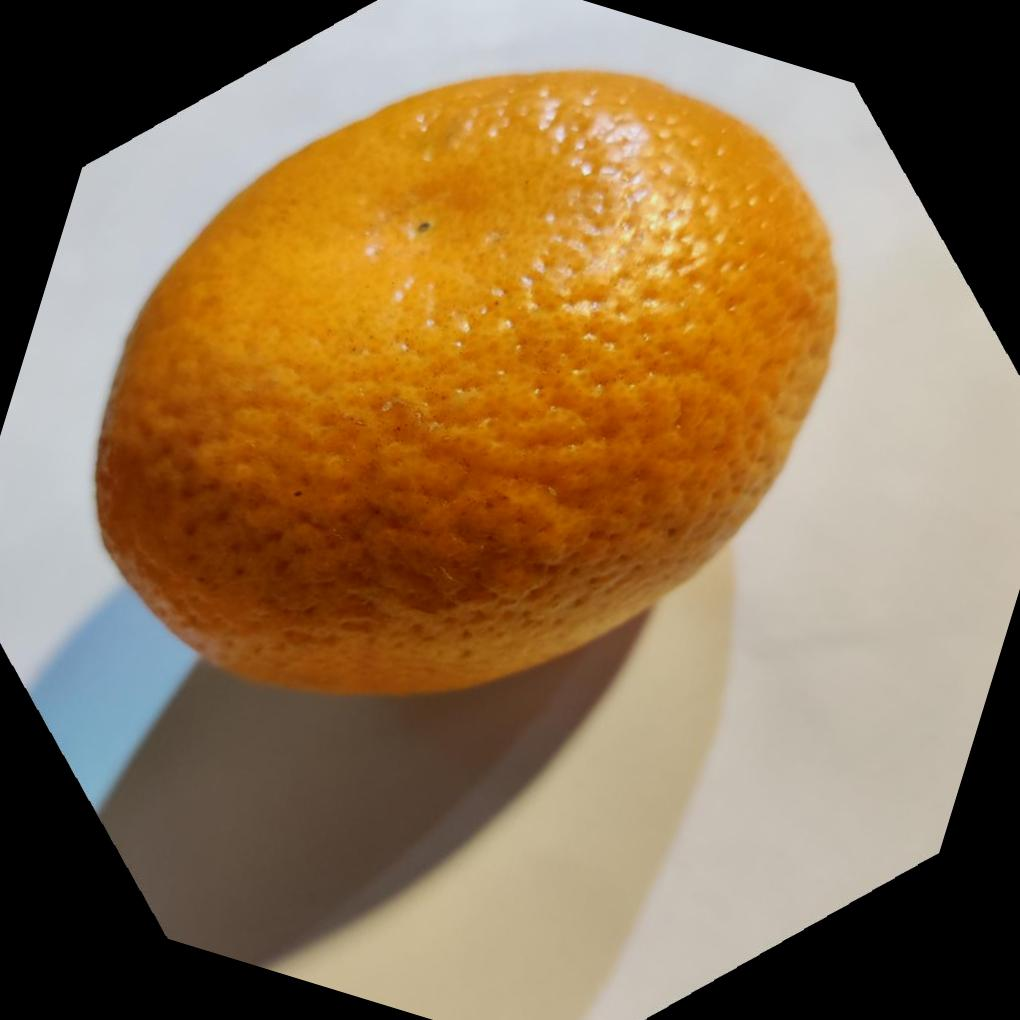FreshGuava: (94, 69, 843, 698)
